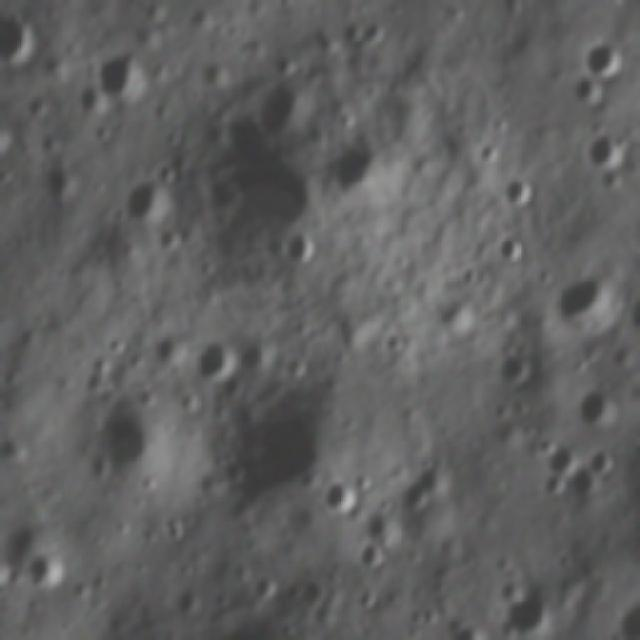crater: (214, 383, 340, 515), (219, 142, 324, 228), (97, 397, 163, 475), (330, 126, 388, 199), (550, 271, 612, 332), (396, 452, 447, 522), (98, 46, 150, 111), (500, 584, 559, 640), (253, 72, 304, 133), (121, 178, 173, 224), (229, 329, 277, 376), (189, 332, 234, 382), (0, 3, 35, 67), (26, 543, 71, 591), (321, 472, 361, 522), (581, 38, 628, 80), (579, 381, 619, 430), (587, 131, 636, 167), (279, 228, 321, 268), (42, 159, 84, 199), (562, 72, 603, 110), (544, 436, 578, 478), (150, 329, 184, 371), (500, 170, 537, 208), (496, 231, 532, 264), (355, 542, 387, 576), (587, 440, 615, 477), (617, 595, 640, 640), (22, 89, 53, 122), (174, 584, 201, 618), (77, 80, 100, 118), (250, 571, 276, 604), (355, 584, 382, 614), (152, 227, 182, 253), (0, 111, 15, 153)
